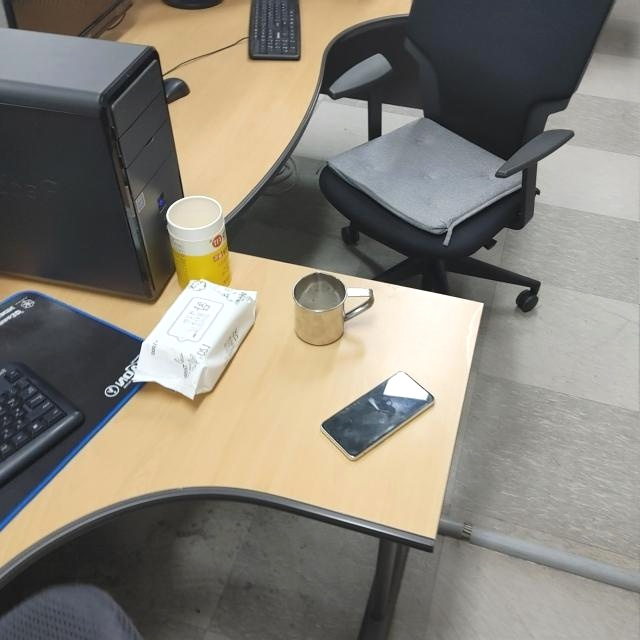cup: (291, 271, 375, 348)
phone: (320, 369, 436, 461)
